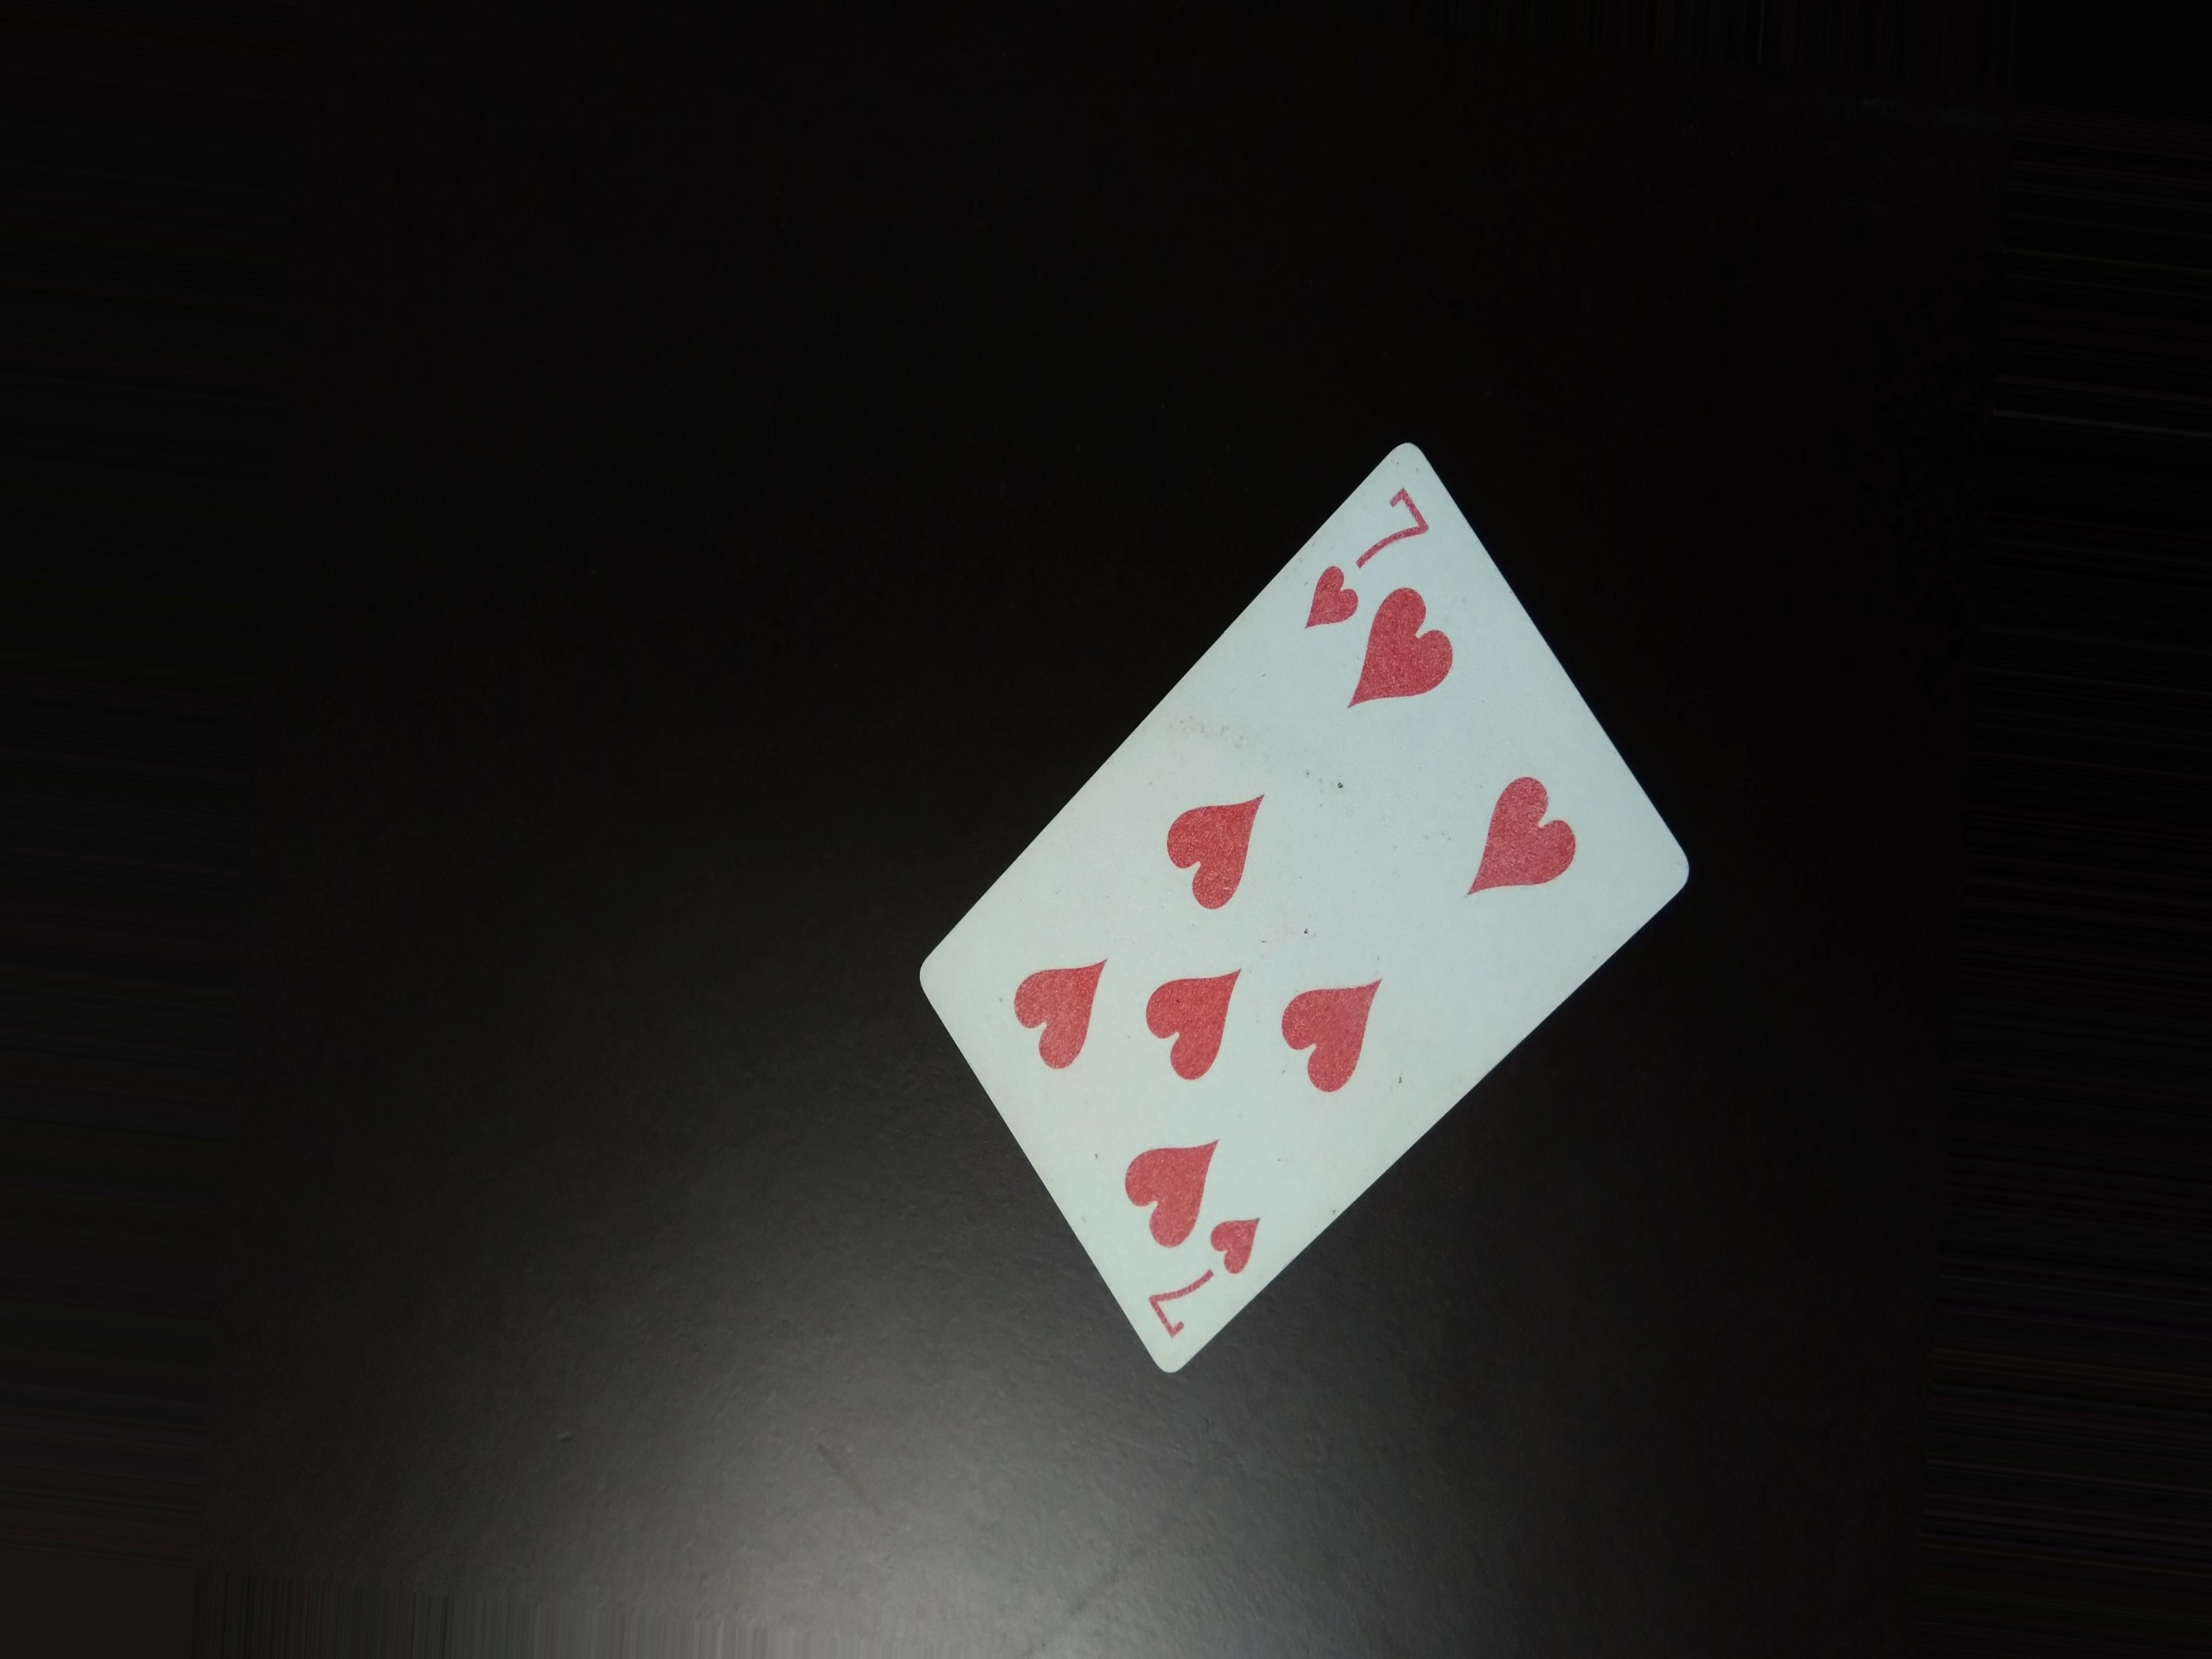7H: (1303, 464, 1440, 626)
